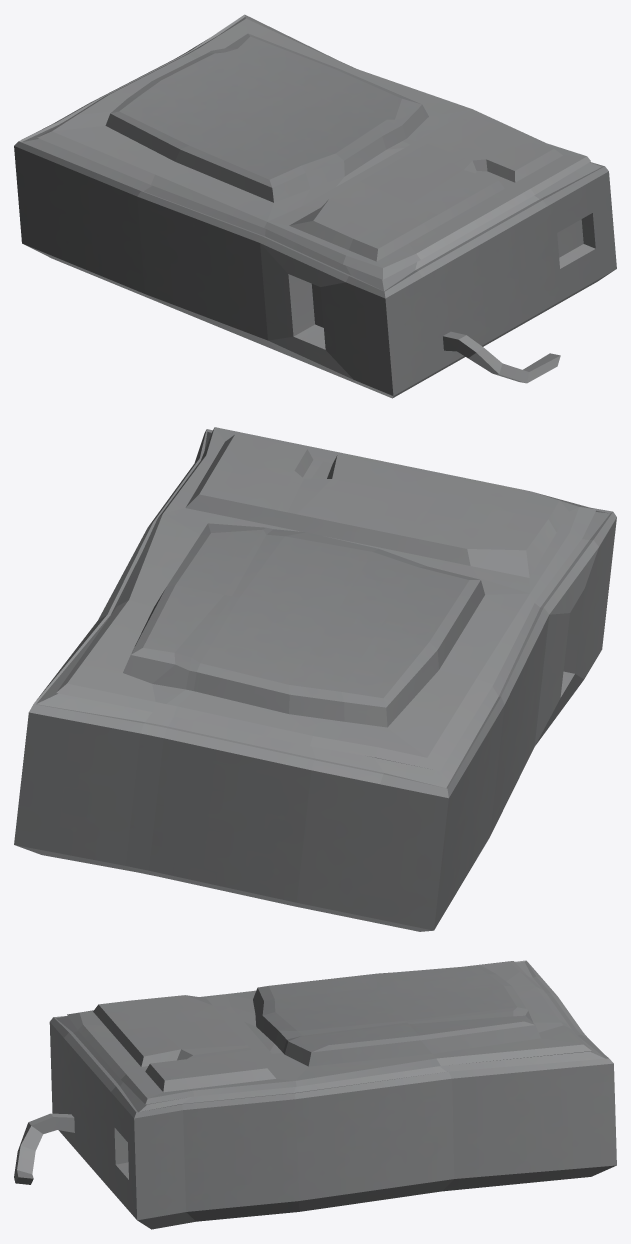
The model's file is ac_unit.glb.
3 renders of one model, top to bottom at view 1: azimuth 30°, elevation 25°; view 2: azimuth 150°, elevation 25°; view 3: azimuth 270°, elevation 25°, orthographic. The views are drawn at different scales.
Visible parts, largest first — view 1: ac_unit; view 2: ac_unit; view 3: ac_unit.
Part boxes in pixels (bbox=[...]): ac_unit: bbox=[14, 14, 616, 398]; ac_unit: bbox=[14, 427, 616, 931]; ac_unit: bbox=[14, 960, 616, 1229].
Bounding box in the file's own units: 0.8285 × 0.3344 × 1.12.
1 material, 1 textured.
